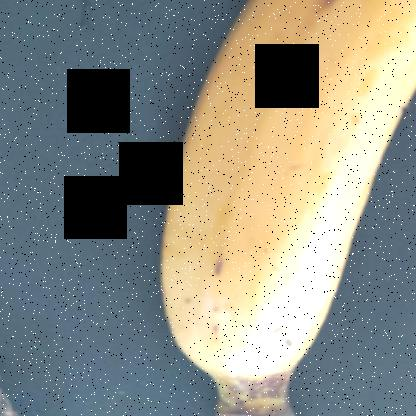freshripe: (113, 0, 415, 381)
